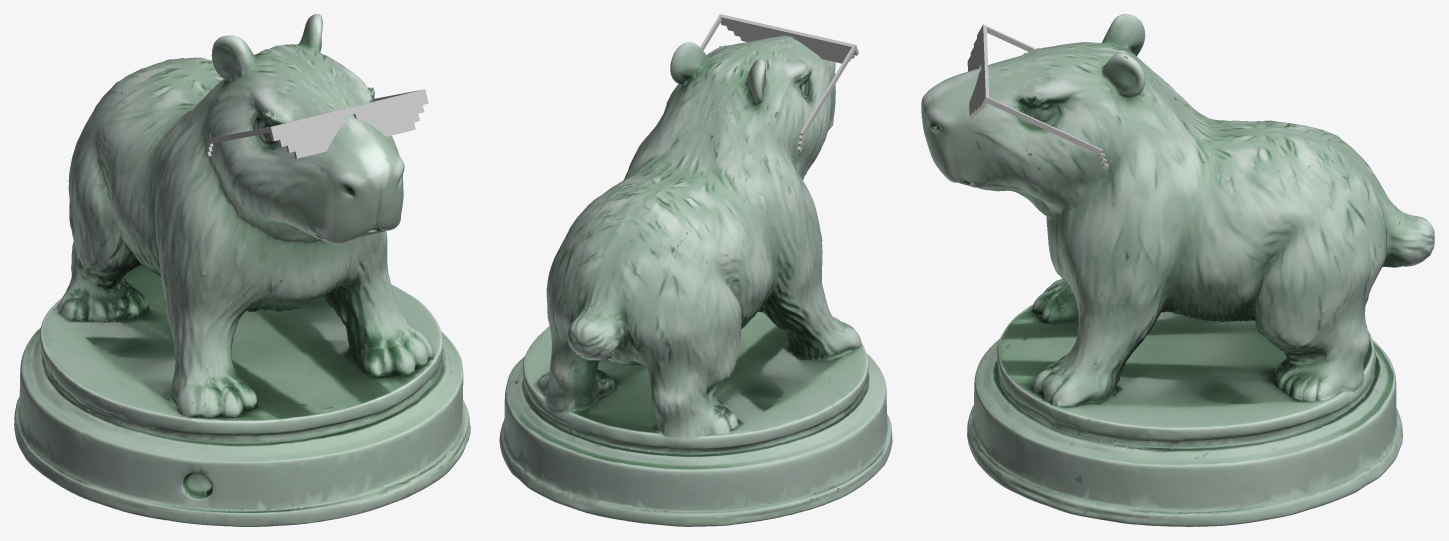
File: platinum_t.fbx
3 renders of one model, left to right at view 1: azimuth 30°, elevation 25°; view 2: azimuth 150°, elevation 25°; view 3: azimuth 270°, elevation 25°, orthographic. The views are drawn at different scales.
Parts seen in each view (by area): view 1: Mesh_0, Object_221; view 2: Mesh_0, Object_221; view 3: Mesh_0, Object_221.
Boxes of the visible parts, x1,y1,x2,y2 form: Mesh_0: [14, 14, 470, 526]; Object_221: [205, 89, 428, 158]; Mesh_0: [499, 36, 892, 526]; Object_221: [665, 14, 858, 152]; Mesh_0: [921, 14, 1434, 526]; Object_221: [967, 24, 1108, 169].
Bounding box in the file's own units: 166 × 174 × 200.
